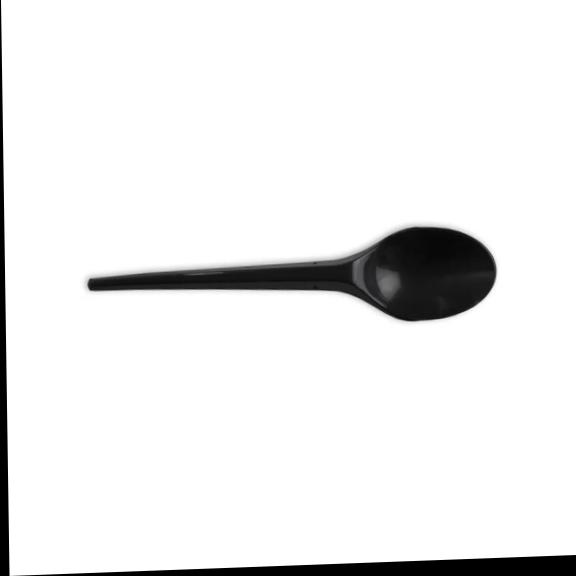Plastik: (88, 227, 495, 321)
